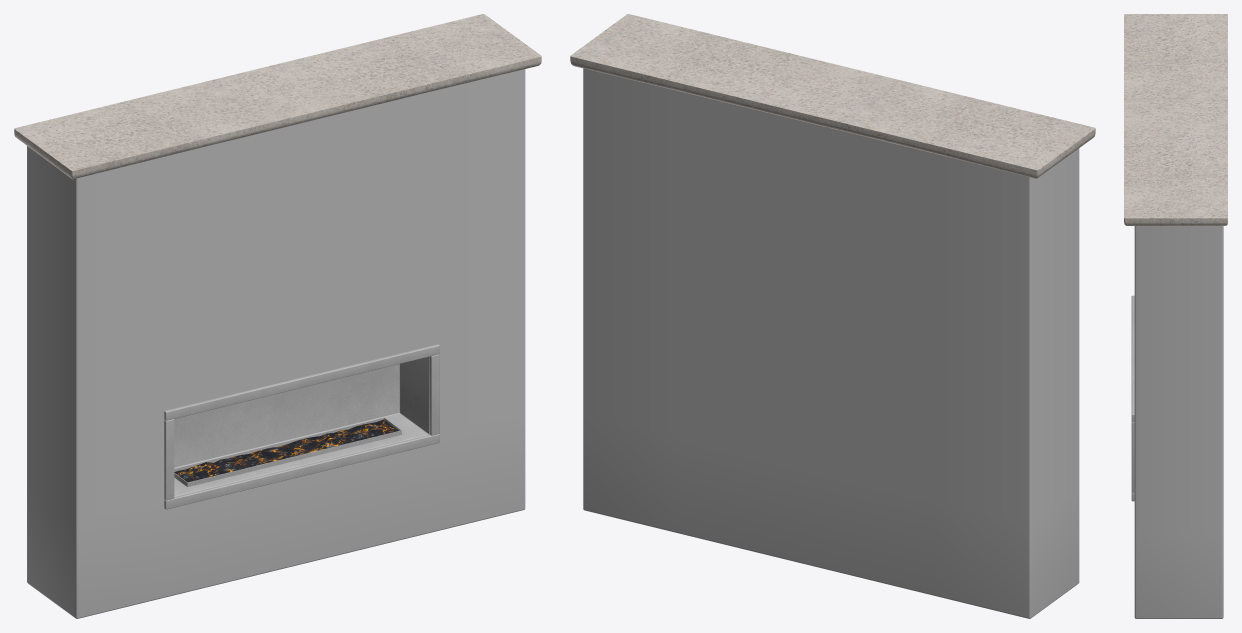
File: GardenFirePlace01_1.FBX
3 views of the same model, side by side, from view 1: azimuth 30°, elevation 25°; view 2: azimuth 150°, elevation 25°; view 3: azimuth 270°, elevation 25° (orthographic). The views are drawn at different scales.
Visible parts, largest first — view 1: GardenFirePlace01_1; view 2: GardenFirePlace01_1; view 3: GardenFirePlace01_1.
Boxes of the visible parts, x1=… form: GardenFirePlace01_1: x1=14, y1=14, x2=541, y2=618; GardenFirePlace01_1: x1=570, y1=14, x2=1095, y2=618; GardenFirePlace01_1: x1=1124, y1=14, x2=1227, y2=618.
Size of what is drawn, in the model's own units: 2.72 by 2.52 by 0.5848.
